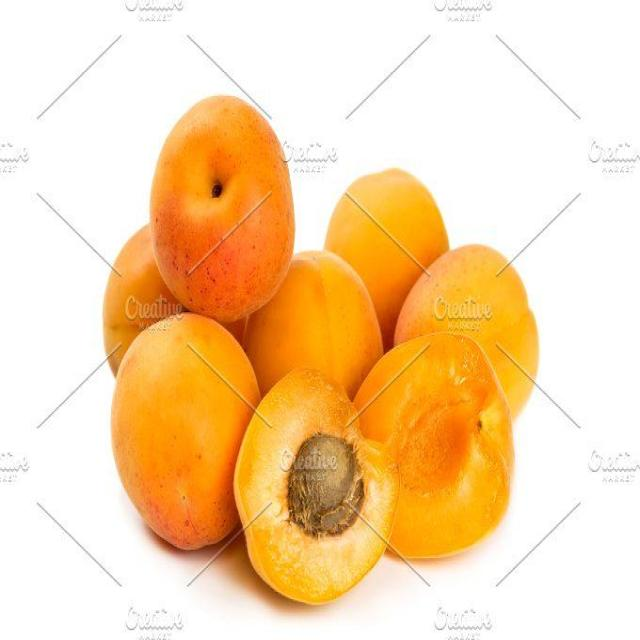kayisi: (234, 366, 399, 606), (109, 314, 263, 554), (353, 333, 514, 558), (150, 95, 296, 326), (396, 246, 540, 418), (324, 168, 451, 350), (248, 250, 386, 403), (102, 225, 183, 376)
kayisicekirdegi: (291, 434, 364, 534)
